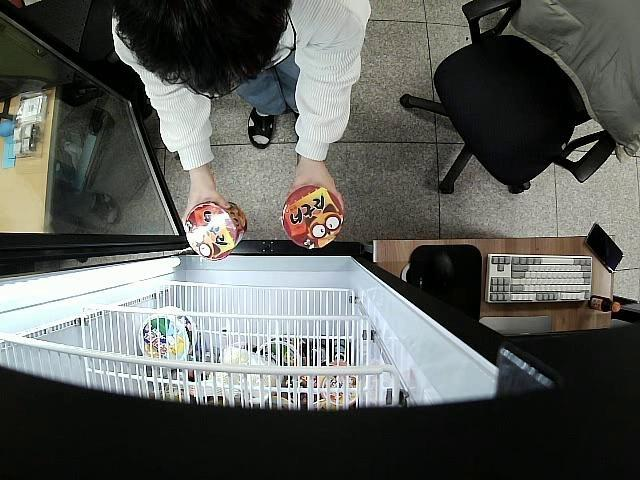05_nuguri_L: (282, 184, 343, 250), (186, 200, 247, 262)
